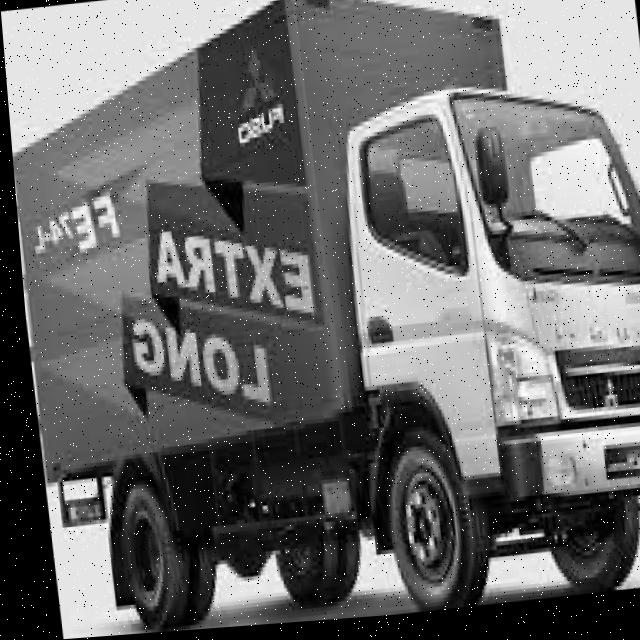truck: (298, 47, 640, 624)
